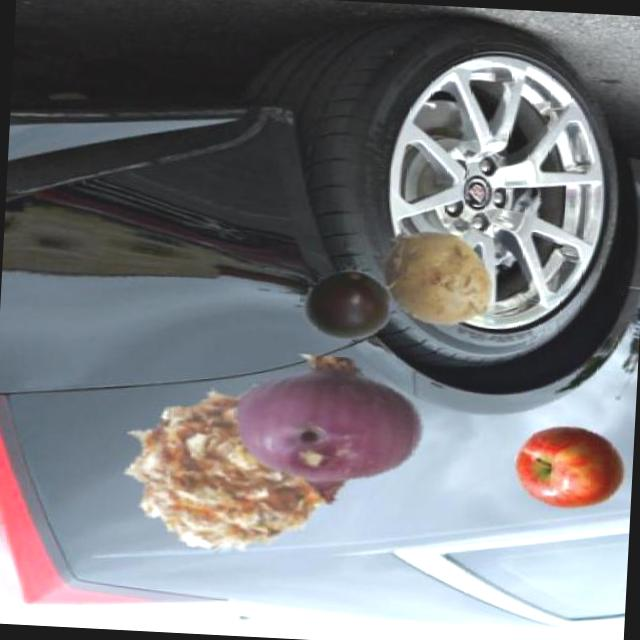Apple: (512, 422, 628, 514)
